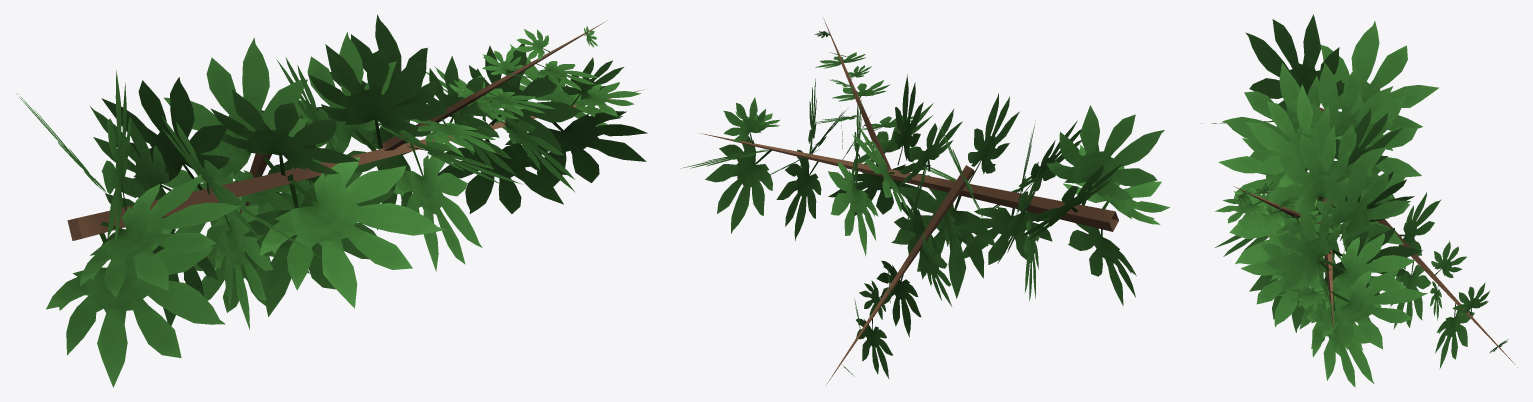
The model's file is Branch_001.fbx.
3 views of the same model, side by side, from view 1: azimuth 30°, elevation 25°; view 2: azimuth 150°, elevation 25°; view 3: azimuth 270°, elevation 25° (orthographic). The views are drawn at different scales.
Visible parts, largest first — view 1: Branch_001; view 2: Branch_001; view 3: Branch_001.
Part boxes in pixels (x1=…): Branch_001: x1=16, y1=14, x2=647, y2=387; Branch_001: x1=680, y1=18, x2=1169, y2=384; Branch_001: x1=1201, y1=14, x2=1517, y2=387.
Bounding box in the file's own units: 6.76 × 3.83 × 4.1.
